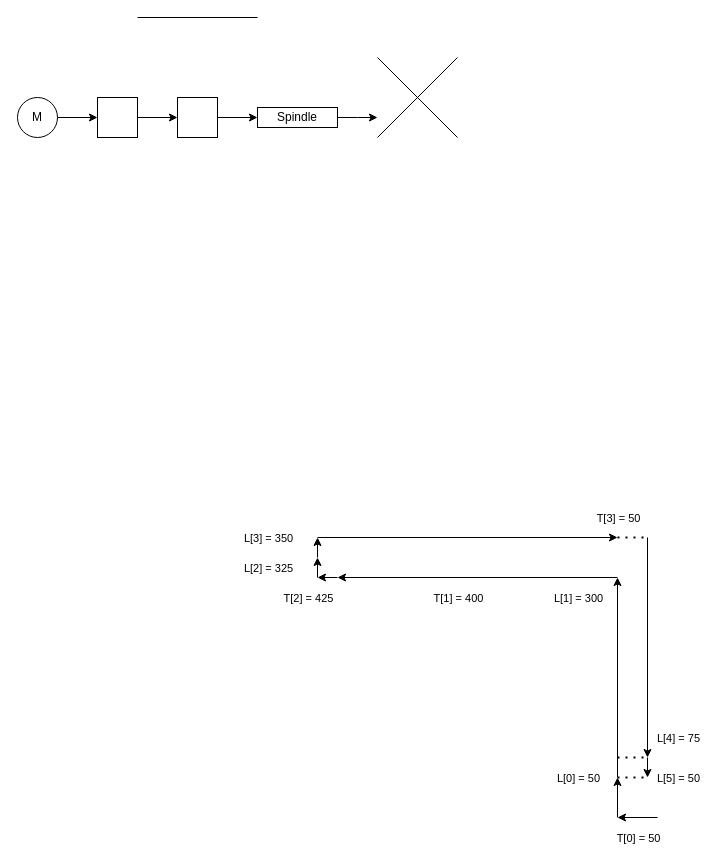
Image size: 717x862. Some labels were removed from this diagram. The shapes that lost their labels are listed below. From the top down, each one's box as (x1, y1, x2, y2) in pixels, then its label:
(96, 96, 138, 138): i = 2
(176, 96, 218, 138): i = 24
